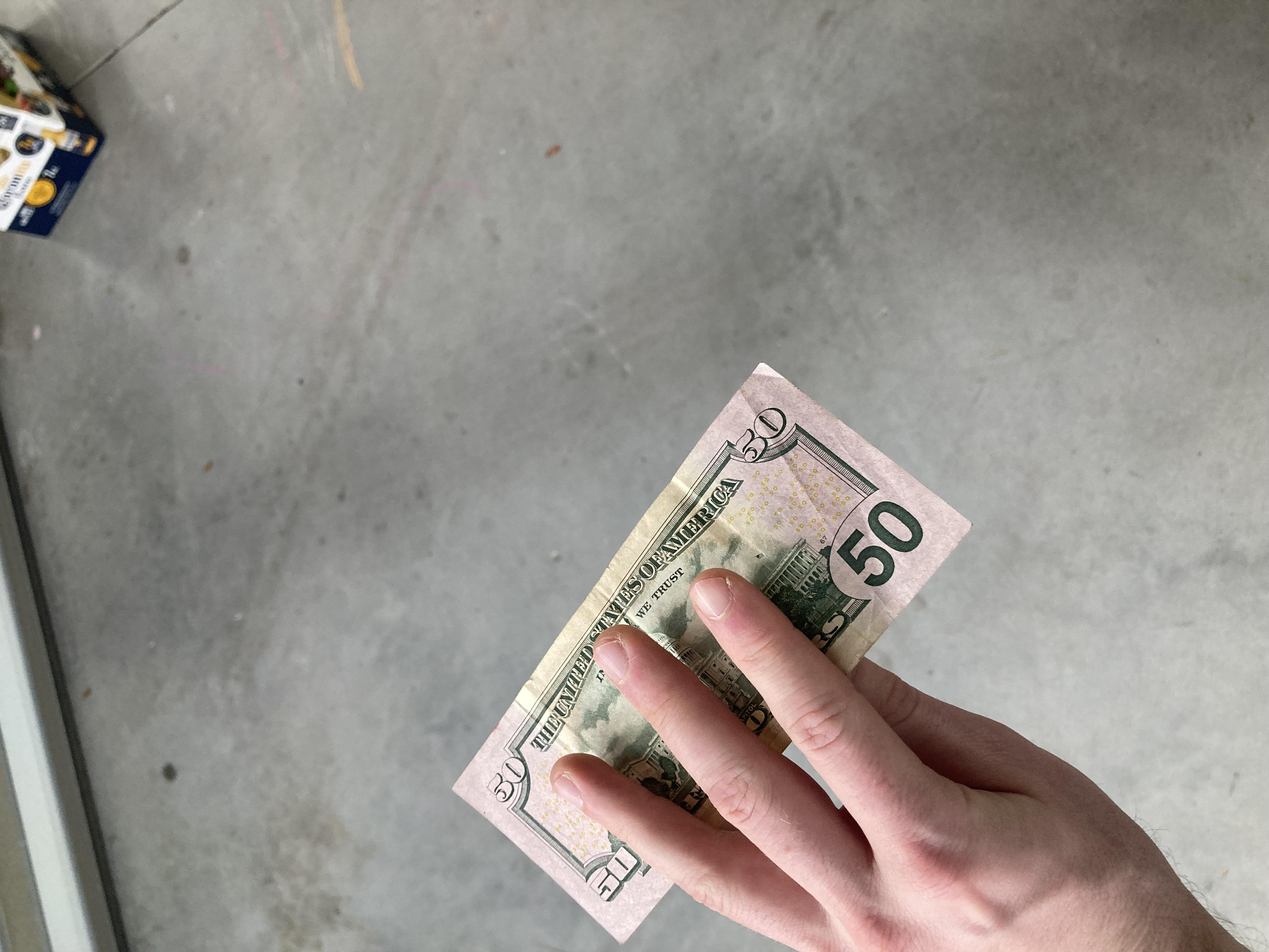fifty-back: (12, 338, 801, 735)
